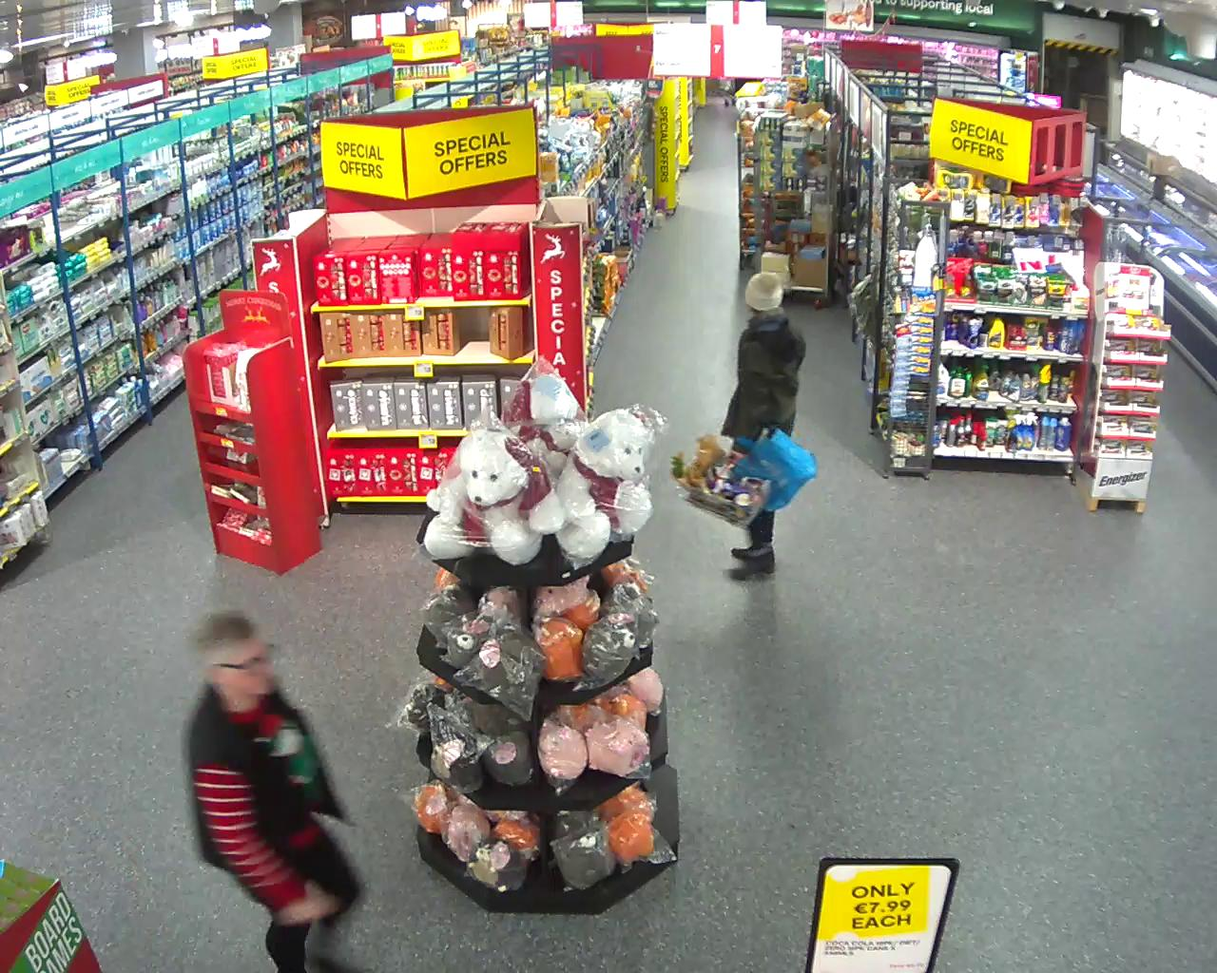filled-basket: (671, 433, 771, 530)
filled-shopping-bags: (740, 428, 817, 513)
person: (722, 274, 805, 566)
person-with-basket-trolly-and-shopping-bag: (672, 273, 817, 568)
